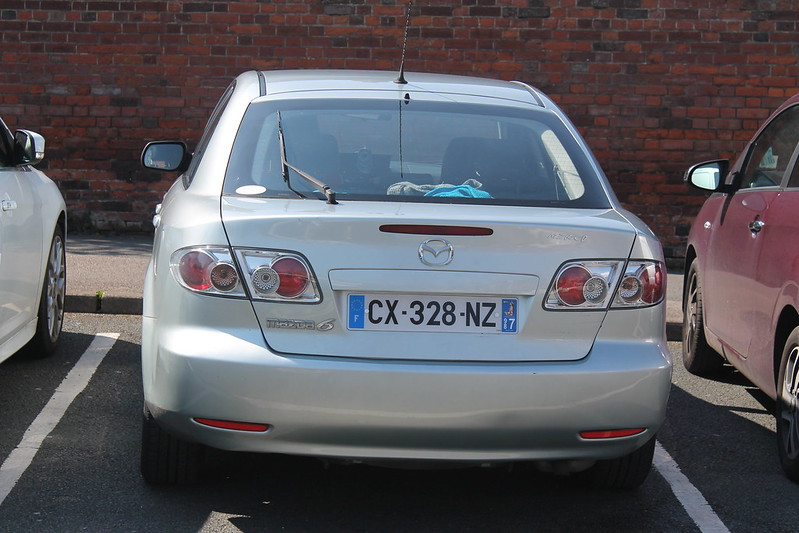number_plate: (345, 286, 535, 345)
